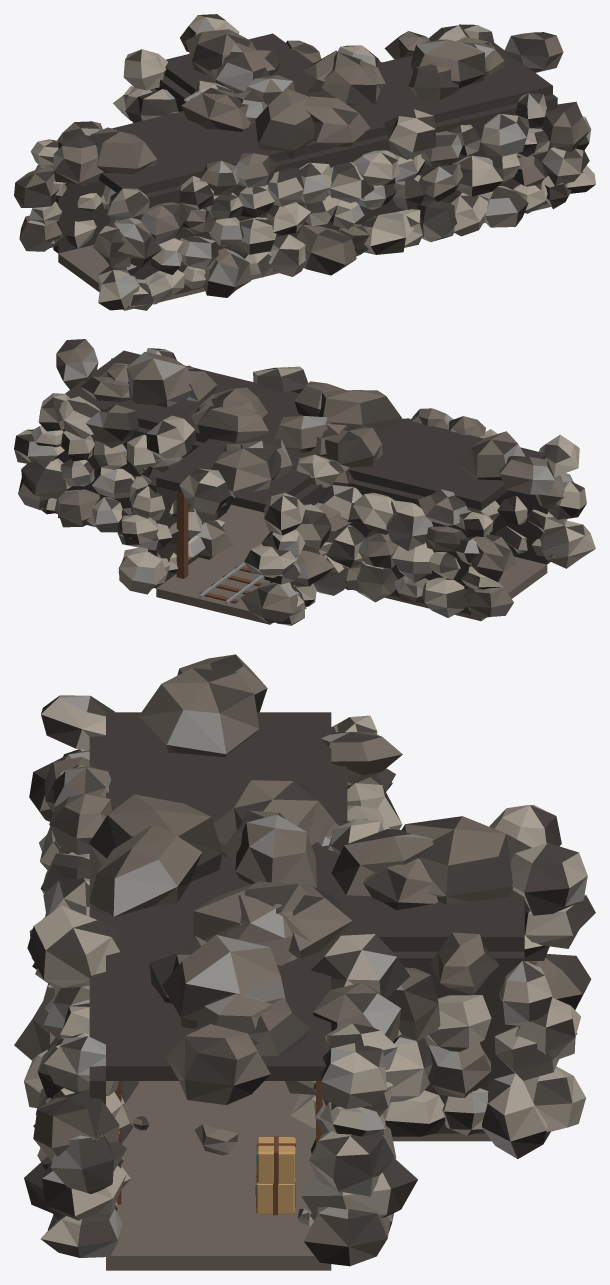
File: Cave_Mines_Junction.fbx
3 renders of one model, top to bottom at view 1: azimuth 30°, elevation 25°; view 2: azimuth 150°, elevation 25°; view 3: azimuth 270°, elevation 25°, orthographic. The views are drawn at different scales.
Visible parts, largest first — view 1: Decor, Ceiling2, Wall3, Ceiling1, Wall1, Floor2, Wall5; view 2: Decor, Ceiling2, Floor1, Floor2, Ceiling1, Wall1, Wall3, Wall4, Wall2, Wall5; view 3: Decor, Ceiling2, Floor2, Ceiling1, Wall4, Wall3, Crate2, Crate1, Wall1.
Boxes of the visible parts, box(x1,y1,x2,y2) form: Decor: box(14, 14, 595, 310); Ceiling2: box(58, 38, 552, 193); Wall3: box(132, 94, 557, 294); Ceiling1: box(164, 33, 313, 94); Wall1: box(53, 149, 110, 253); Floor2: box(58, 203, 550, 310); Wall5: box(154, 75, 190, 111); Decor: box(14, 339, 595, 625); Ceiling2: box(65, 350, 546, 510); Floor1: box(156, 550, 272, 624); Floor2: box(58, 504, 547, 621); Ceiling1: box(156, 439, 311, 512); Wall1: box(347, 479, 480, 614); Wall3: box(489, 490, 550, 564); Wall4: box(148, 478, 202, 588); Wall2: box(55, 427, 203, 513); Wall5: box(270, 484, 325, 582); Decor: box(14, 654, 595, 1266); Ceiling2: box(106, 712, 331, 1080); Floor2: box(106, 1081, 331, 1270); Ceiling1: box(331, 851, 524, 951); Wall4: box(393, 951, 524, 1133); Wall3: box(89, 736, 105, 1104); Crate2: box(257, 1137, 295, 1183); Crate1: box(256, 1169, 294, 1214); Wall1: box(331, 727, 347, 821).
Bounding box in the file's own units: 60.91 × 18.09 × 36.14.
